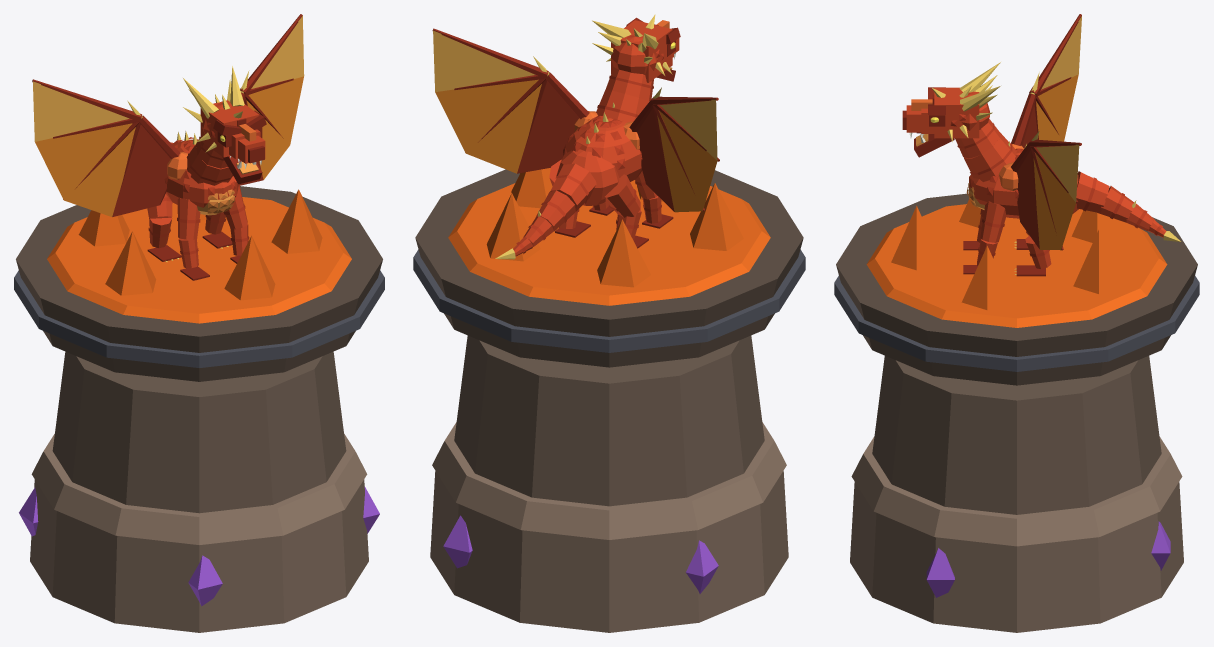
Rendered from tower_flame_l1.glb.
3 views of the same model, side by side, from view 1: azimuth 30°, elevation 25°; view 2: azimuth 150°, elevation 25°; view 3: azimuth 270°, elevation 25° (orthographic). The views are drawn at different scales.
Parts seen in each view (by area): view 1: Body, Turret; view 2: Body, Turret; view 3: Body, Turret.
Boxes of the visible parts, x1=… form: Body: x1=14, y1=186, x2=384, y2=632; Turret: x1=32, y1=14, x2=304, y2=280; Body: x1=413, y1=167, x2=805, y2=632; Turret: x1=432, y1=14, x2=719, y2=259; Body: x1=834, y1=193, x2=1199, y2=632; Turret: x1=902, y1=14, x2=1180, y2=276.
Size of the model in its own units: 0.656 by 0.9681 by 0.656.
